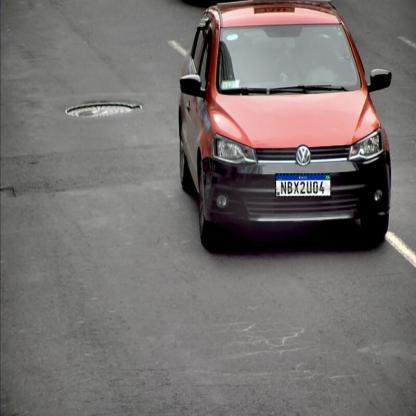PlacaM: (275, 173, 331, 198)
